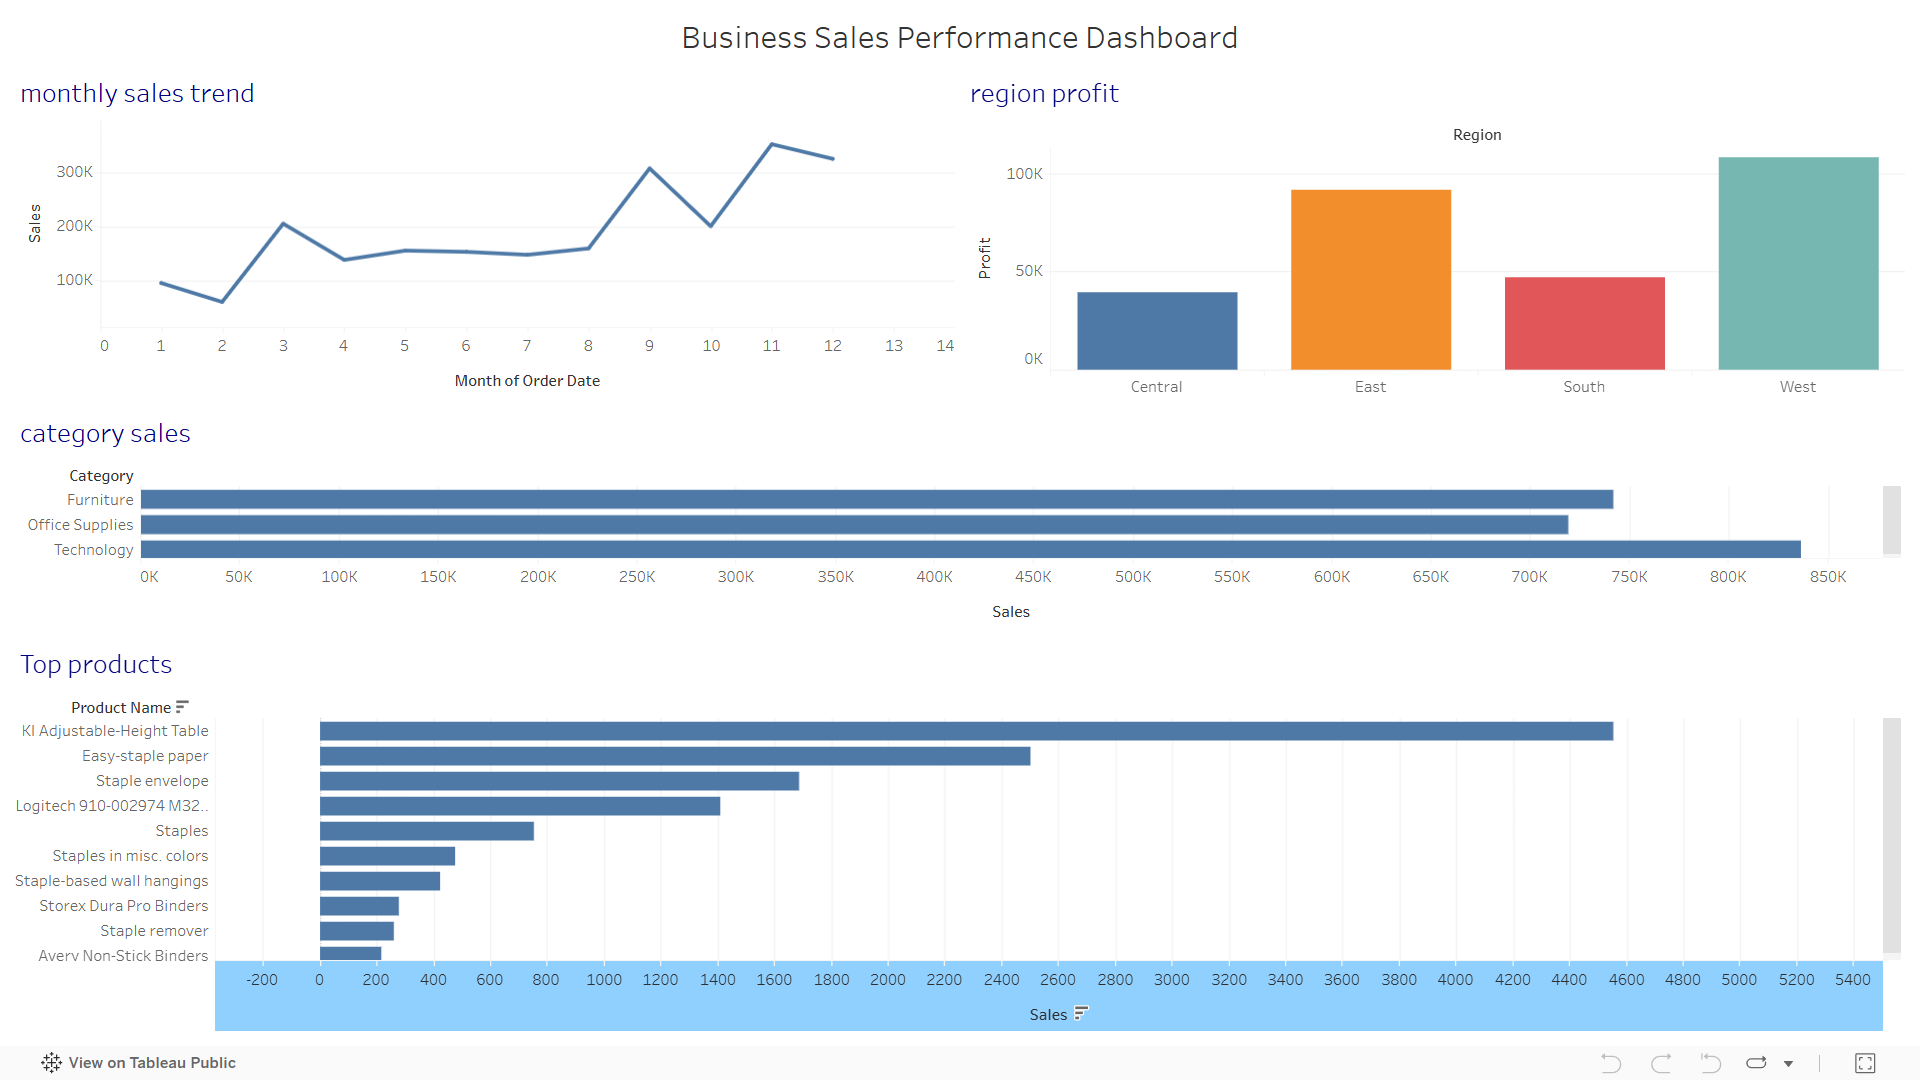

This screenshot's page, from the dashboard's own definition file:
{"tool":"tableau","page":{"name":"Dashboard 1","canvas":[1000,1000],"units":"permille","ordinal":0},"visuals":[{"type":"title","box":[4.9,9.4,990.1,58.7]},{"type":"worksheet","title":"sales trend","mark":"Automatic","rows":["Sales"],"cols":["Order Date"],"box":[4.9,68.1,495.1,322.2]},{"type":"worksheet","title":"region profit","mark":"Automatic","rows":["Profit"],"cols":["Region"],"box":[500,68.1,495.1,322.2]},{"type":"worksheet","title":"category sales","mark":"Automatic","rows":["Category"],"cols":["Sales"],"box":[4.9,390.3,990.1,218.5]},{"type":"worksheet","title":"Top products","mark":"Automatic","rows":["Product Name"],"cols":["Sales"],"box":[4.9,608.8,990.1,381.9]}]}

Visuals, with their boxes on the dashboard's canvas, which has no fixed pixel size, in thousandths of its width and height (x1, y1, x2, y2). These are canvas units, not pixel positions in the 1920x1080 screenshot, which may show the page scaled, cropped or inside an application window:
title: x1=5 y1=9 x2=995 y2=68
"sales trend" worksheet: x1=5 y1=68 x2=500 y2=390
"region profit" worksheet: x1=500 y1=68 x2=995 y2=390
"category sales" worksheet: x1=5 y1=390 x2=995 y2=609
"Top products" worksheet: x1=5 y1=609 x2=995 y2=991
